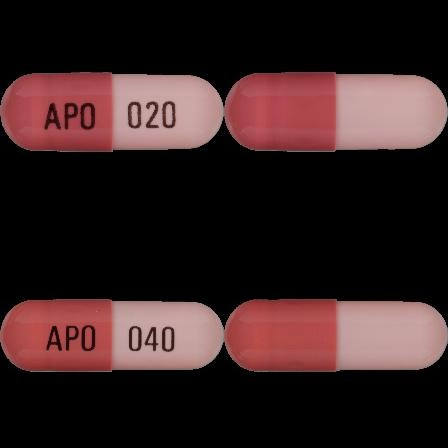51655-022: (0, 0, 224, 224)
